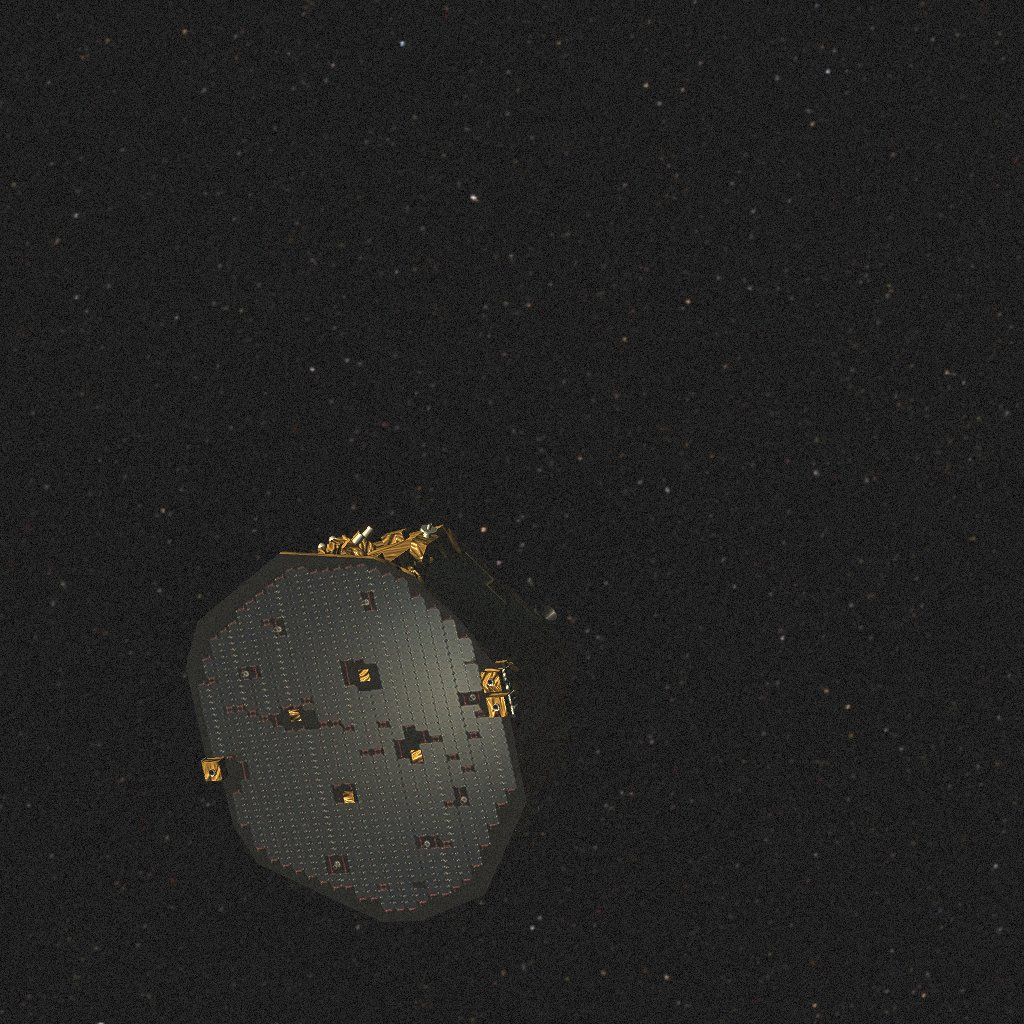lisa_pathfinder: (186, 523, 586, 922)
